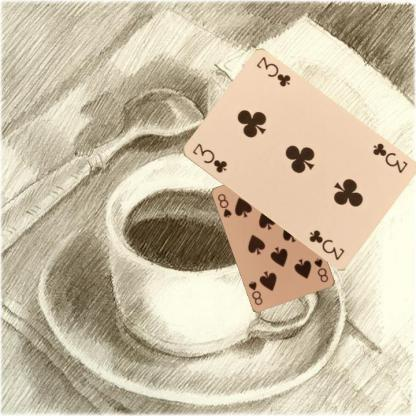3c: (370, 140, 409, 175), (189, 141, 228, 174)
8s: (312, 256, 330, 284), (215, 191, 233, 219)
